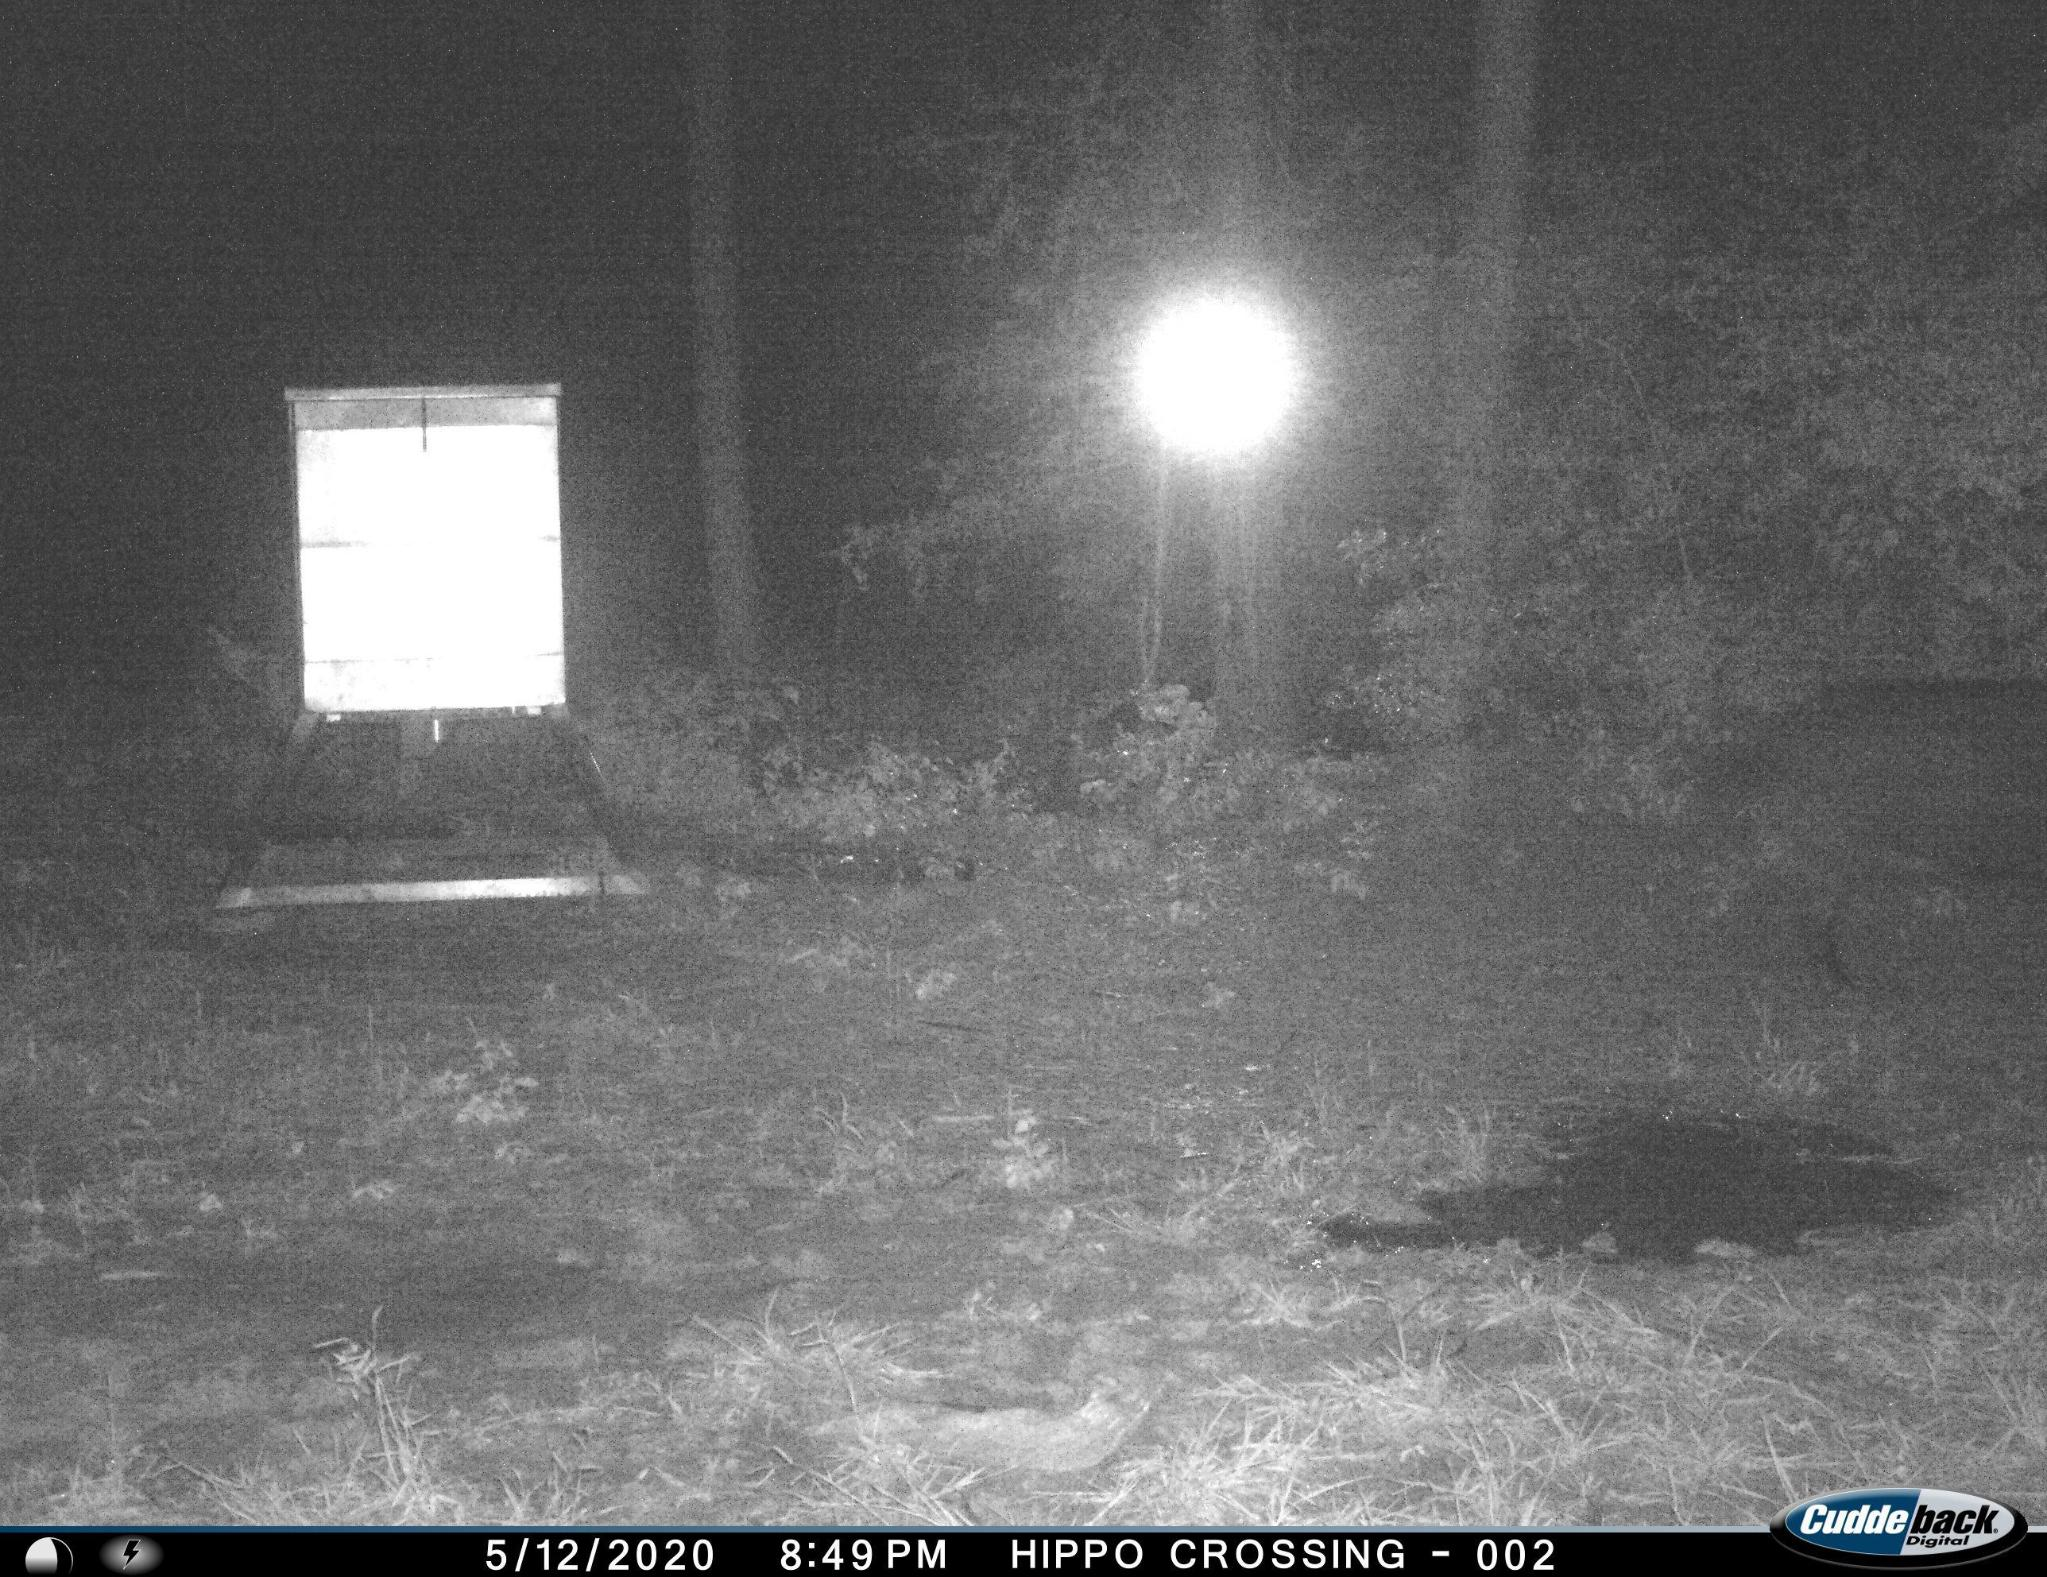Hog: (1711, 664, 2047, 1004)
